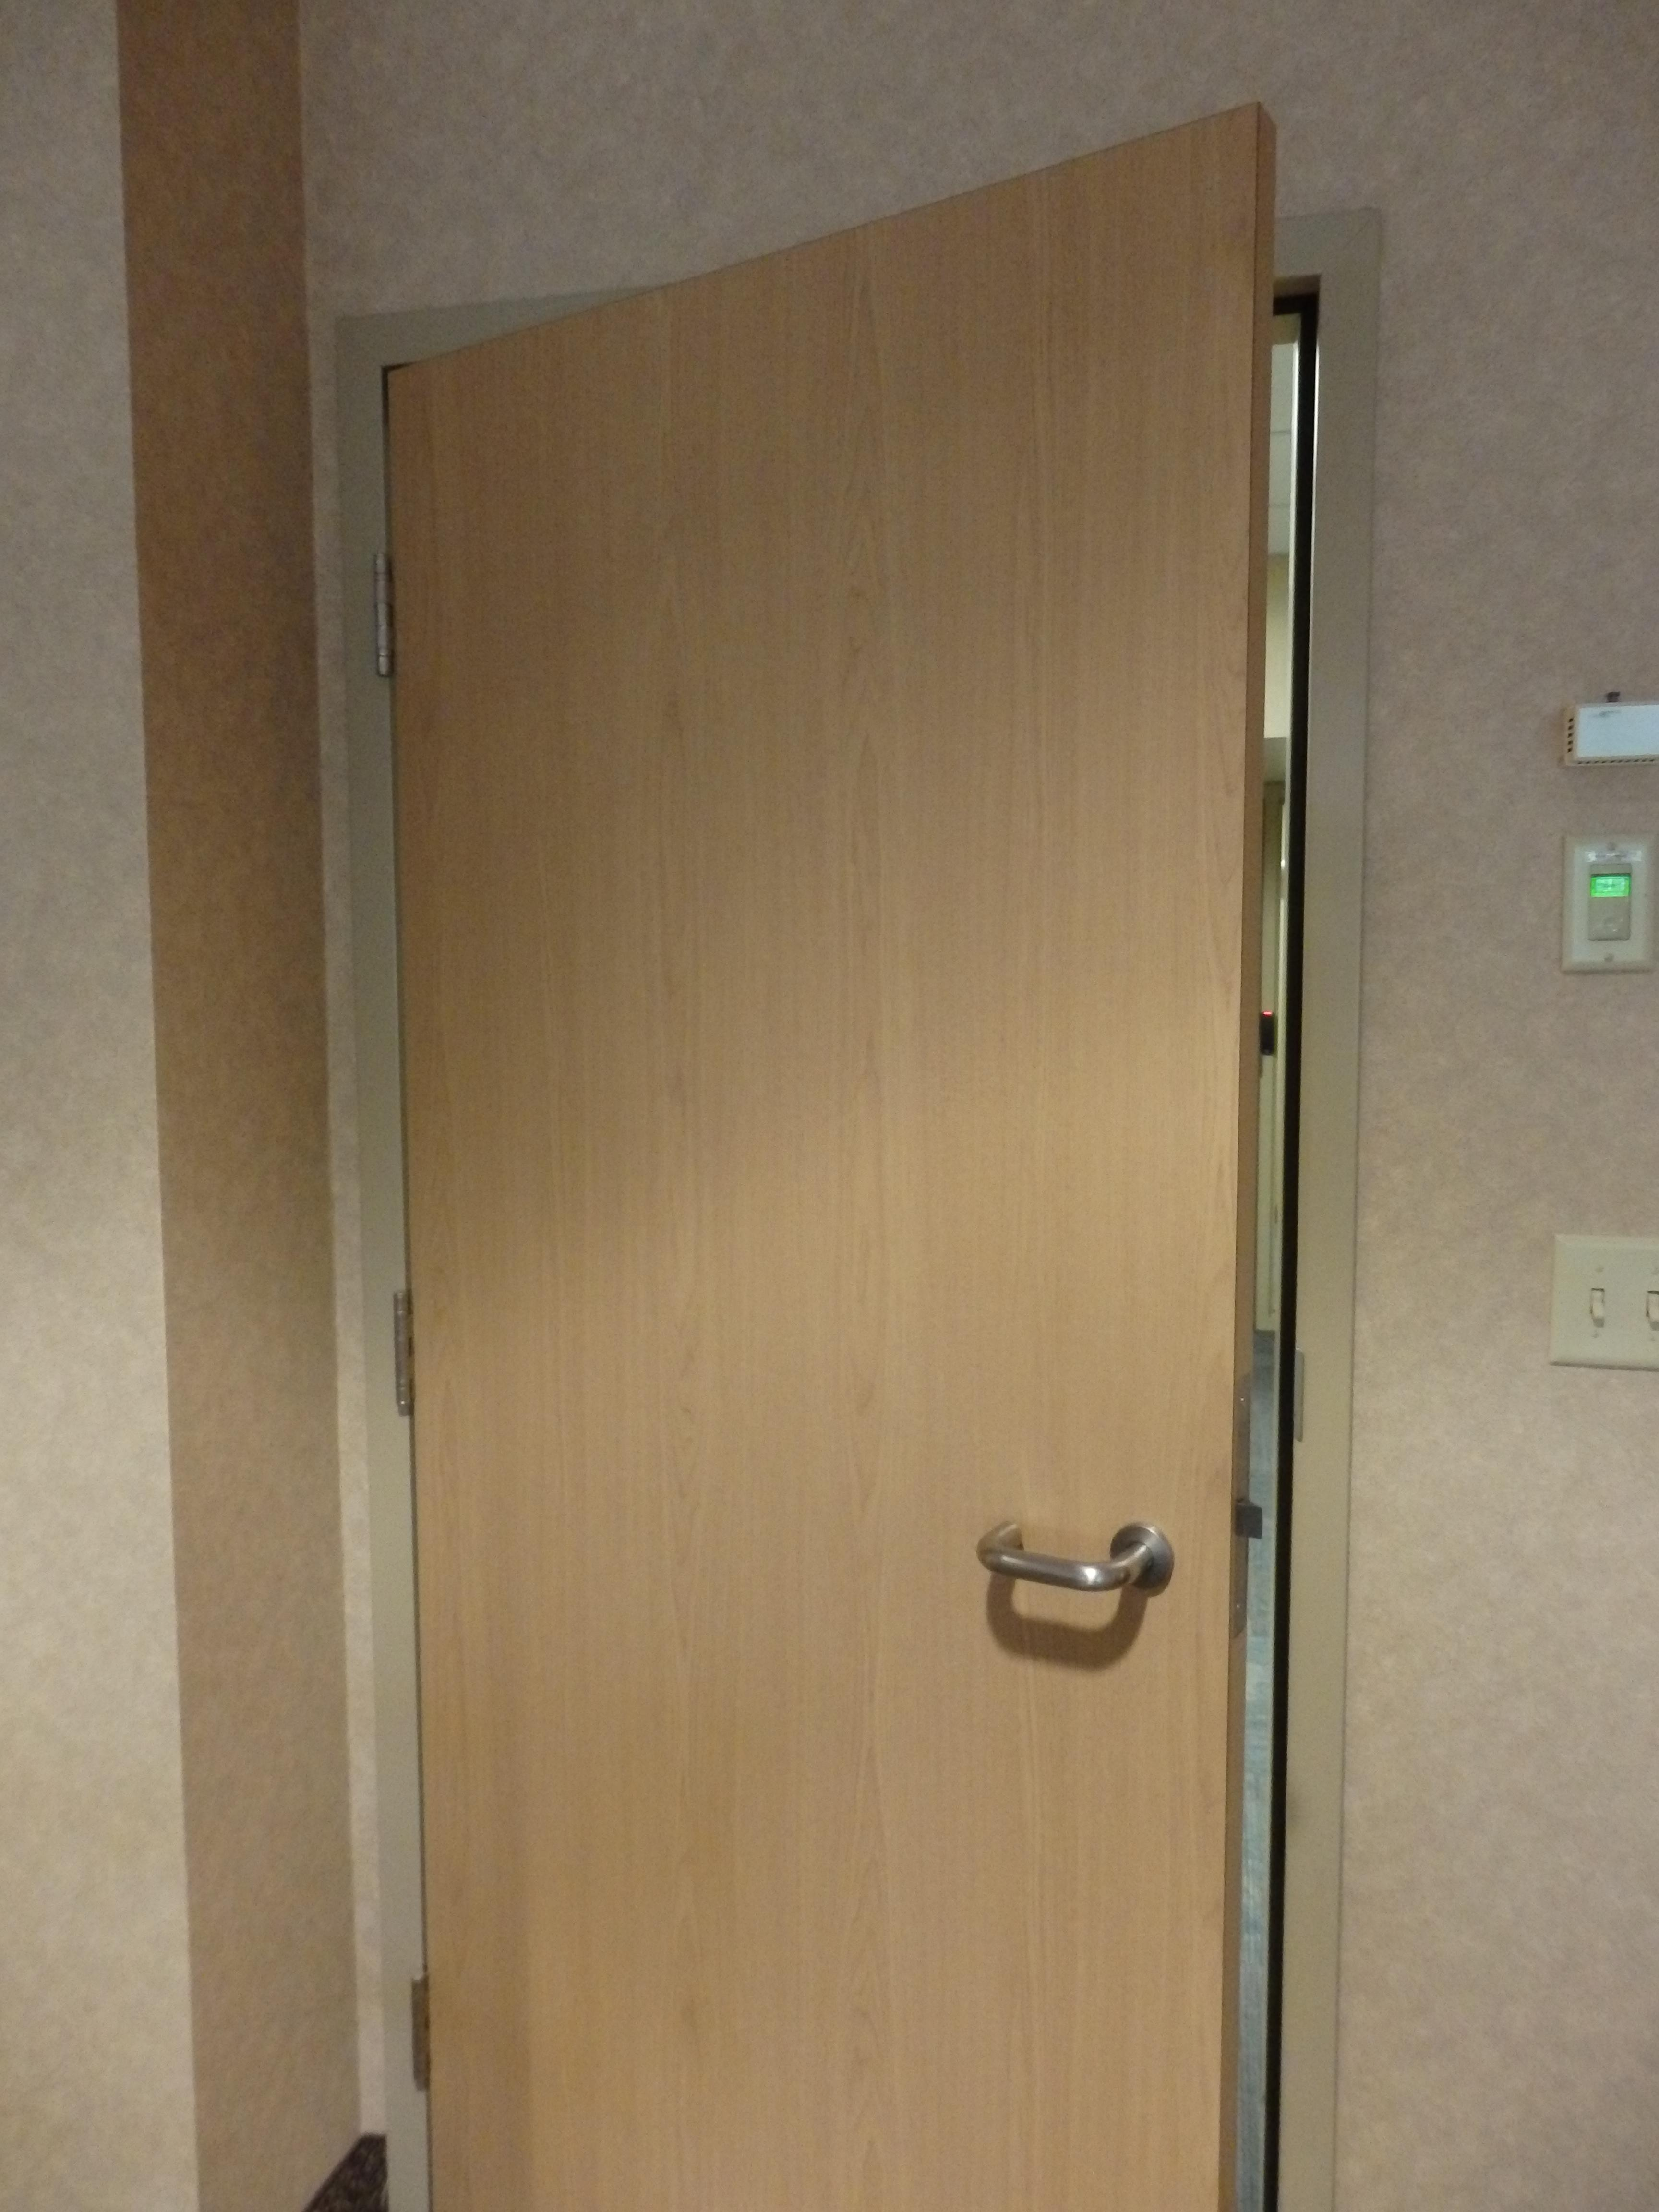door: (338, 99, 1378, 2203)
